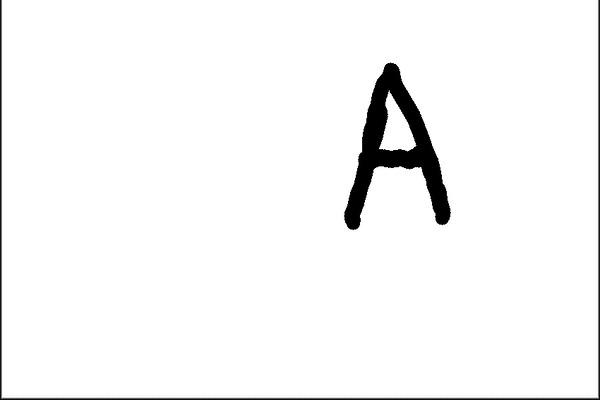A: (326, 53, 458, 238)
